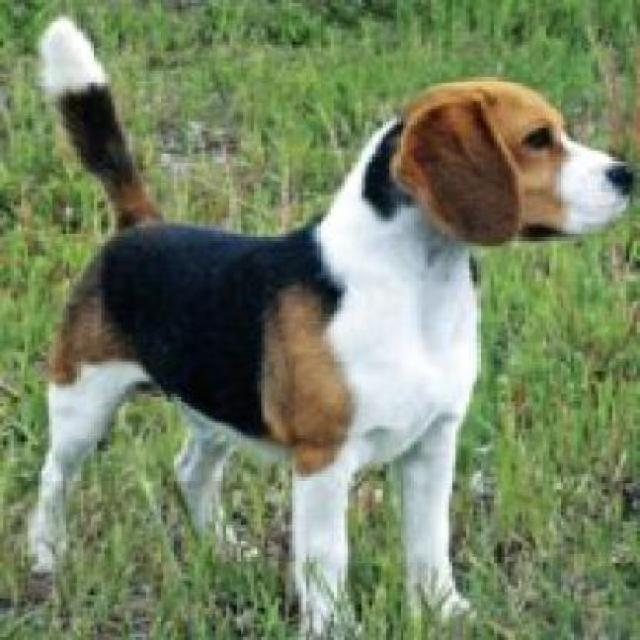Dog: (32, 9, 638, 622)
